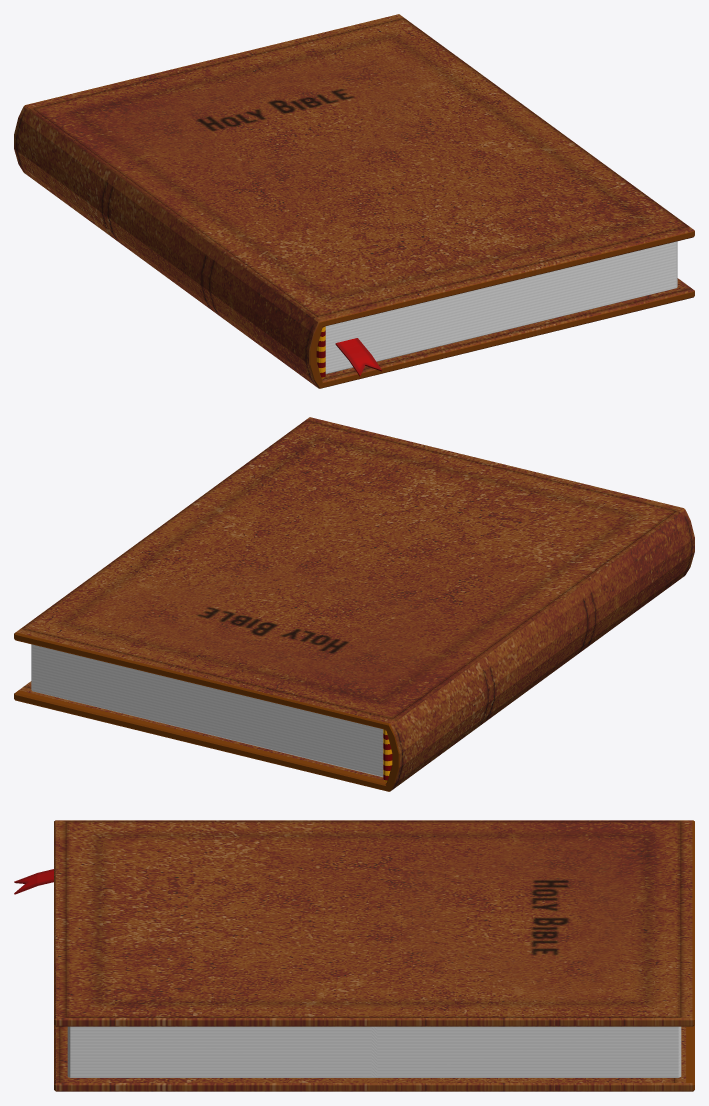
The model's file is Bible.obj.
The picture shows the model from 3 angles, top to bottom: view 1: azimuth 30°, elevation 25°; view 2: azimuth 150°, elevation 25°; view 3: azimuth 270°, elevation 25°; orthographic projection. The views are drawn at different scales.
Visible parts, largest first — view 1: Cube_Cube.001; view 2: Cube_Cube.001; view 3: Cube_Cube.001.
Part boxes in pixels (x1,y1,x2,y2): Cube_Cube.001: (14, 14, 694, 388); Cube_Cube.001: (14, 417, 694, 791); Cube_Cube.001: (14, 820, 694, 1091).
Size of the model in its own units: 2.05 by 0.3457 by 2.89.
